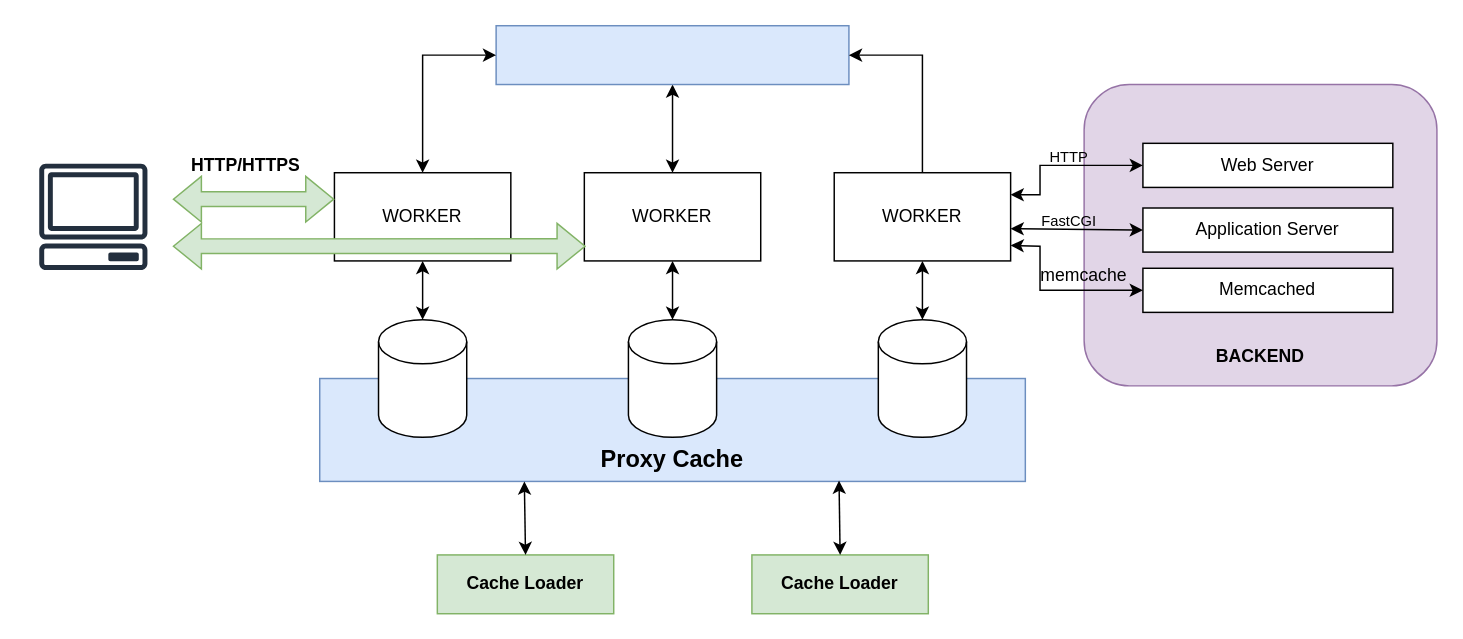
Image size: 1463x639. Some labels were removed from this diagram. The centre of each missing label's shape, as x and y in pixels:
"Client" goes at (x=92, y=216).
"Master" goes at (x=672, y=54).
